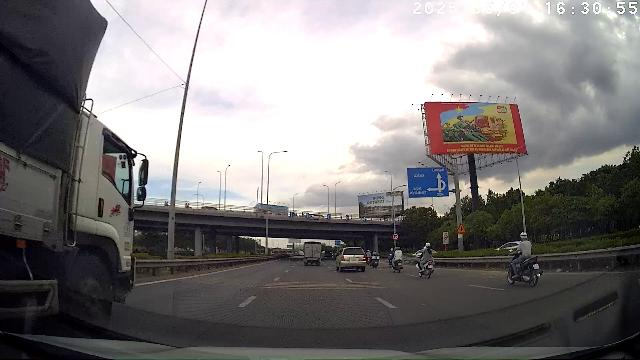123b-cam-re-phai: (392, 233, 399, 240)
